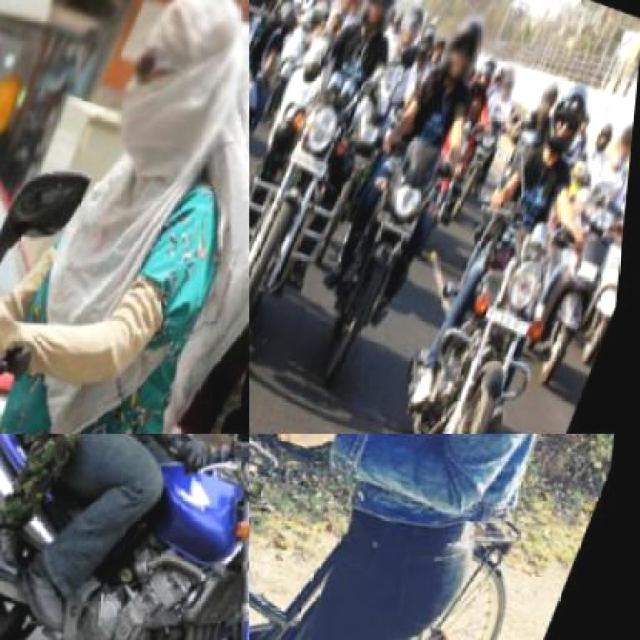With Helmet: (537, 64, 603, 154), (436, 0, 498, 80), (348, 0, 415, 34), (395, 0, 431, 48), (495, 52, 527, 98), (474, 48, 503, 94), (537, 70, 566, 115), (613, 106, 636, 159), (414, 17, 441, 58), (596, 107, 622, 148), (335, 0, 368, 14)
Without Helmet: (89, 0, 248, 194)
